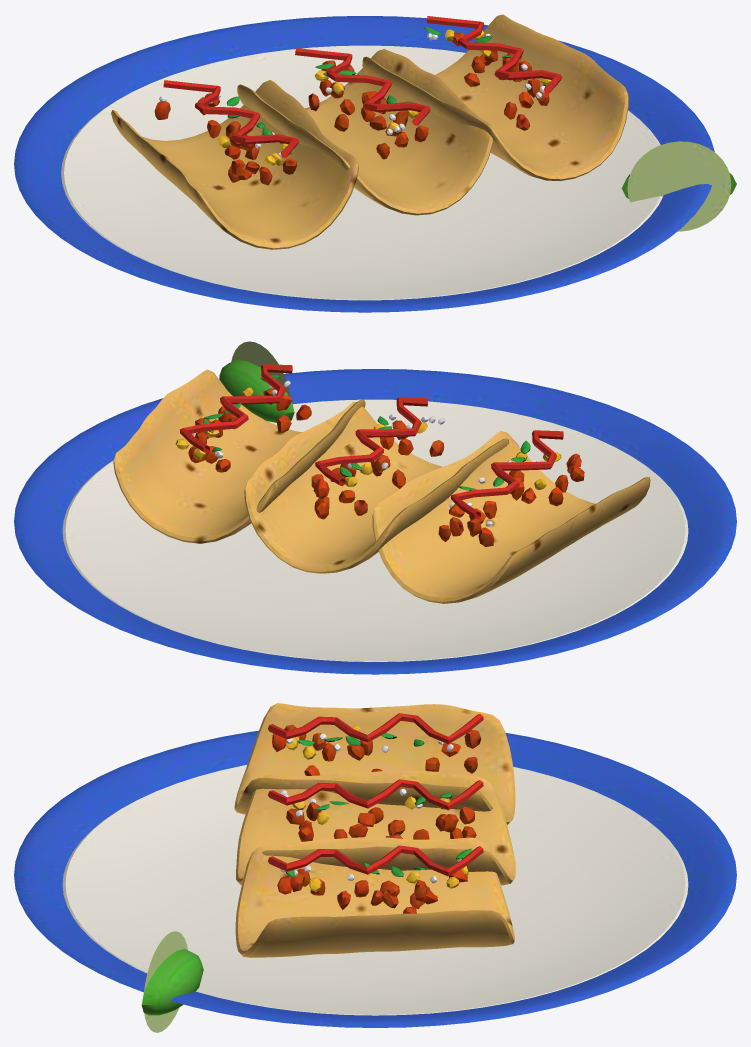
Rendered from tacos.glb.
3 renders of one model, top to bottom at view 1: azimuth 30°, elevation 25°; view 2: azimuth 150°, elevation 25°; view 3: azimuth 270°, elevation 25°, orthographic. The views are drawn at different scales.
Parts seen in each view (by area): view 1: tacos; view 2: tacos; view 3: tacos.
Boxes of the visible parts, box(x1,y1,x2,y2) form: tacos: box(14, 14, 736, 312); tacos: box(14, 341, 736, 674); tacos: box(14, 703, 736, 1032).
Size of the model in its own units: 0.4852 by 0.0992 by 0.4852.
Materials: 1 (1 with a texture image).
